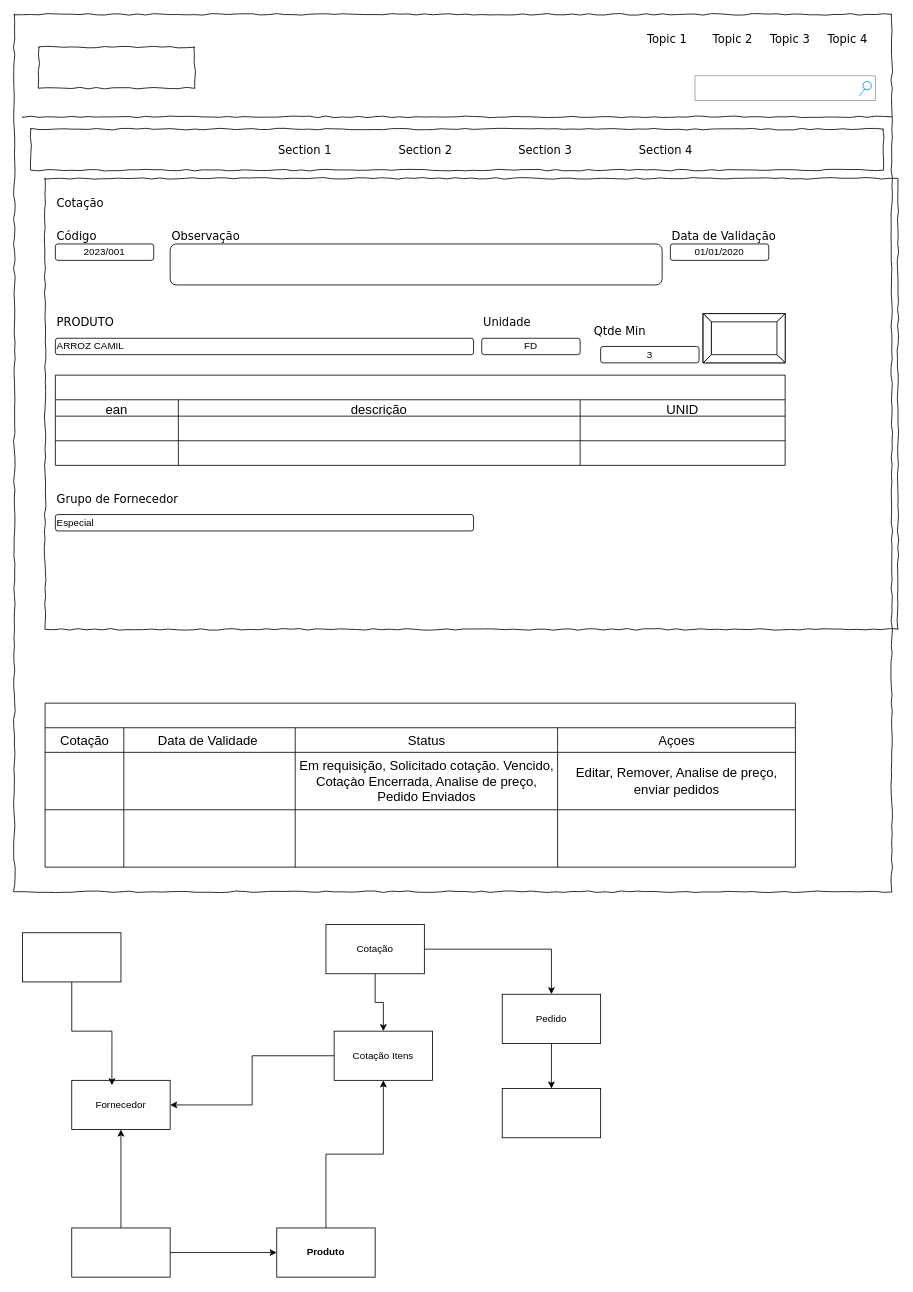
Image size: 913x1292. Some labels were removed from this diagram. Each missing label, with the centre of its shape:
"ADD" goes at [743,338].
"Conversão de Unidade de médida" goes at [120,1252].
"Grupo de Fornecedores" goes at [71,957].
"LOGO" goes at [116,67].
"Pedido Itens" goes at [551,1113].
"Search" goes at [784,87].
